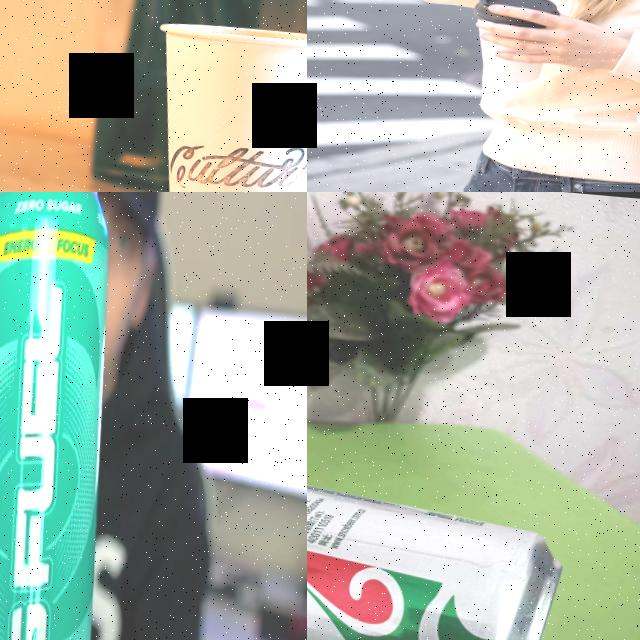can: (0, 192, 132, 640), (307, 451, 571, 640)
cup: (135, 17, 307, 192), (465, 0, 563, 87)
